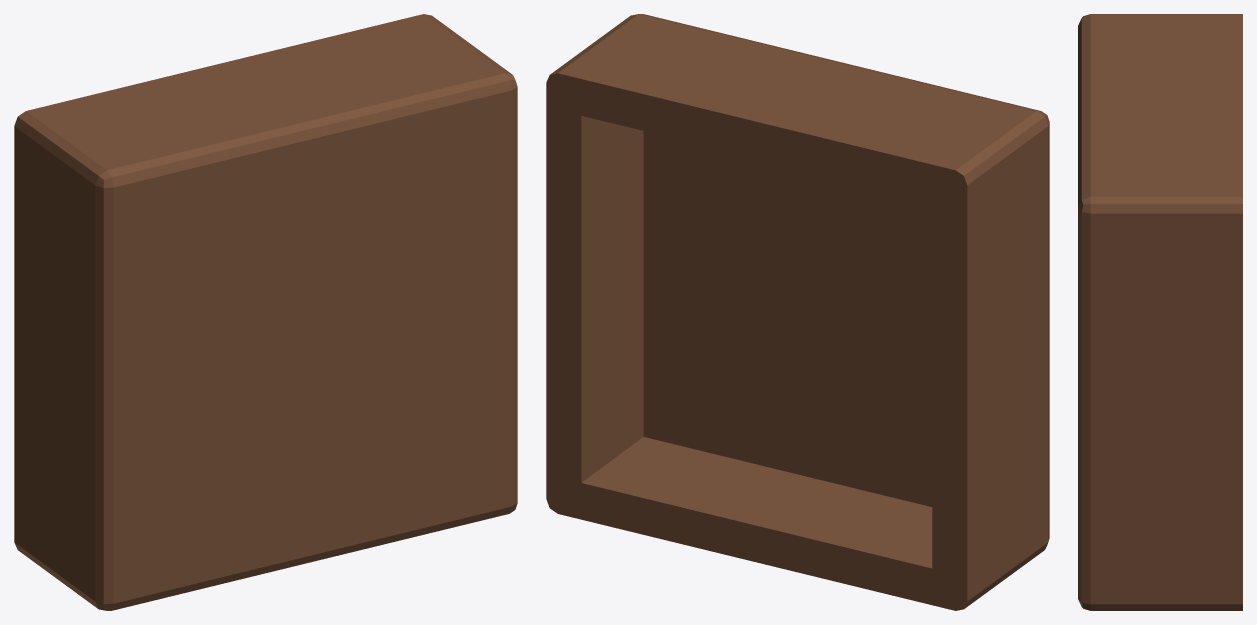
File: cm_cap.glb
The picture shows the model from 3 angles, left to right: view 1: azimuth 30°, elevation 25°; view 2: azimuth 150°, elevation 25°; view 3: azimuth 270°, elevation 25°; orthographic projection. The views are drawn at different scales.
Visible parts, largest first — view 1: Cube.057; view 2: Cube.057; view 3: Cube.057.
Part boxes in pixels (bbox=[...]): Cube.057: bbox=[14, 14, 517, 610]; Cube.057: bbox=[546, 14, 1049, 610]; Cube.057: bbox=[1078, 14, 1242, 610].
Size of the model in its own units: 18 by 18 by 6.5.
